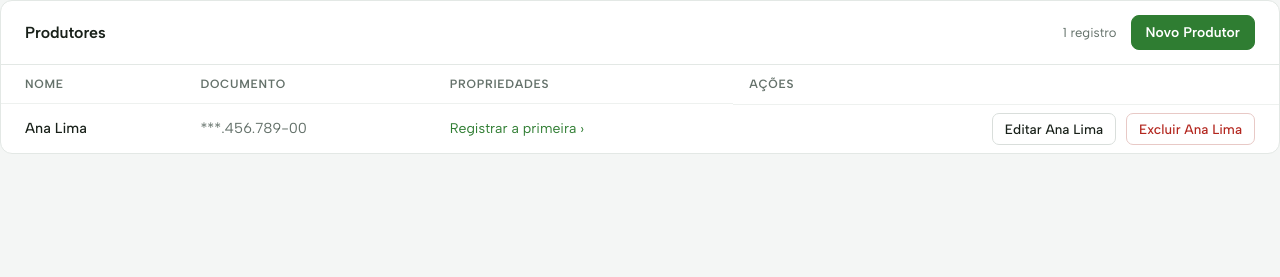
a seção de Produtores › pergunta antes de excluir, e avisa que as Propriedades vão junto
expect the text "Ana Lima" is shown: met, box [1, 104, 184, 153]
Click the button "Excluir Ana Lima" at x=1190, y=129, box [1126, 112, 1255, 145]
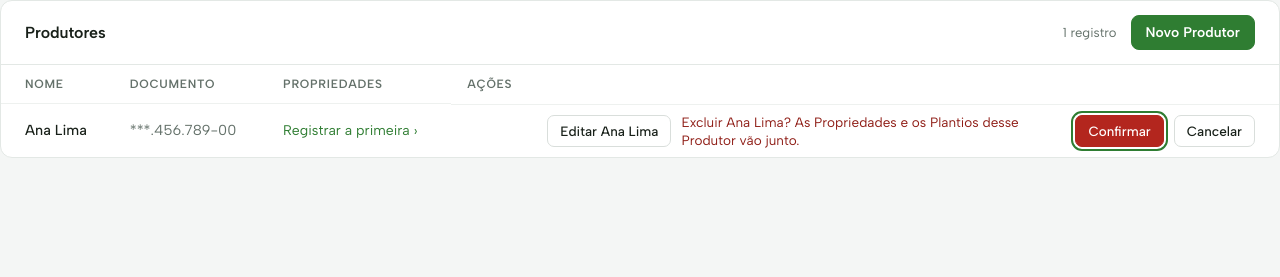
expect the text "Excluir Ana Lima? As Propriedades e os Plantios desse Produtor vão junto." is shown: met, box [682, 112, 1066, 149]
Click the button "Confirmar" at x=1120, y=131, box [1076, 115, 1164, 147]
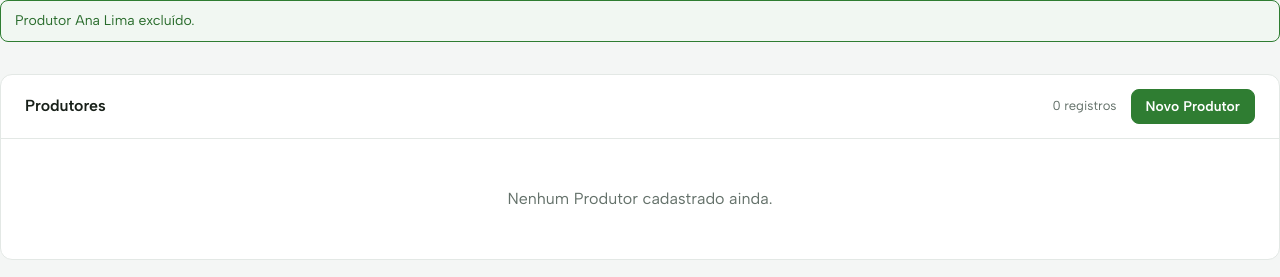
expect the text "Nenhum Produtor cadastrado ainda." is shown: met, box [508, 189, 773, 208]
